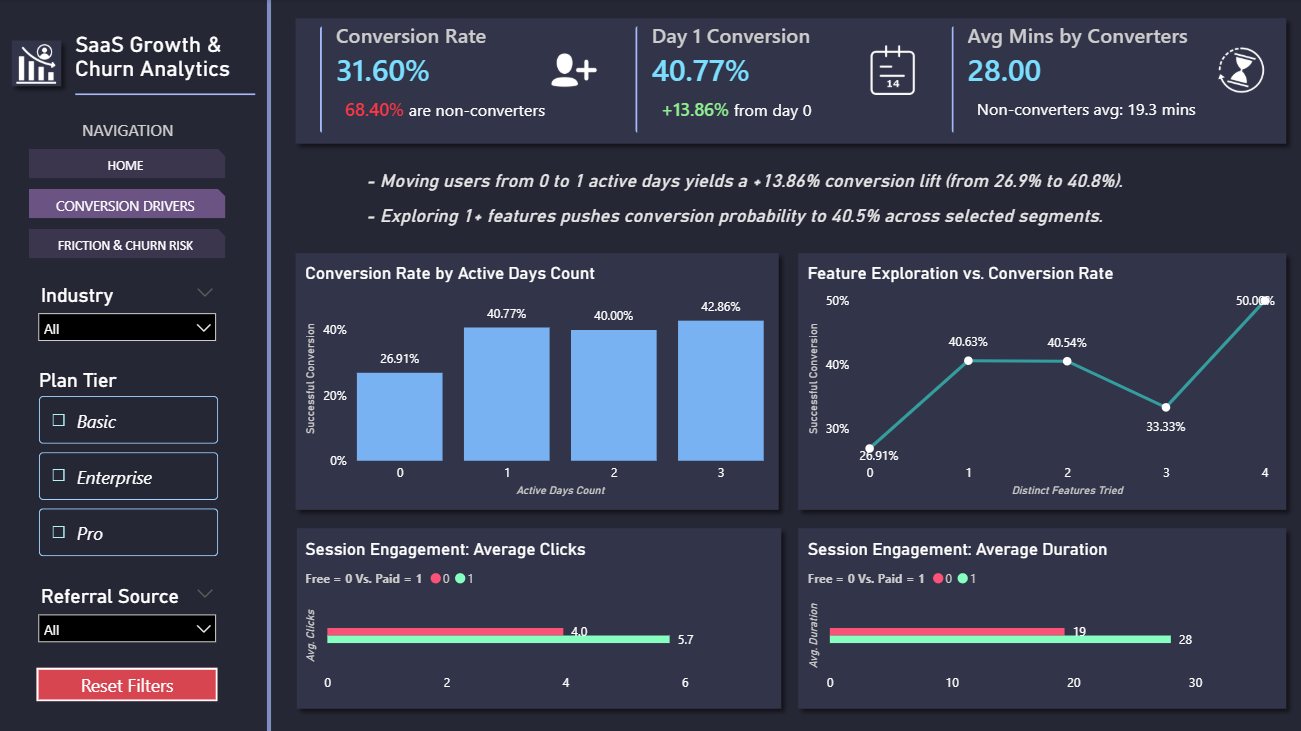

The page's visual inventory and layout, read from the dashboard file:
{"tool":"powerbi","page":{"name":"CONVERSION DRIVERS","canvas":[1280,720],"ordinal":1},"visuals":[{"type":"shape","box":[282.4,9.8,990.2,141.1],"z":0},{"type":"shape","box":[3.7,32.1,66.3,62.6],"z":0,"group":"g1"},{"type":"cardVisual","fields":{"Data":["Measures (2).conversion_rate_%","Measures (2).day_1_activated_conversion_rate_%","Measures (2).avg_active_mins_converters"]},"box":[295.9,7.4,962,143.6],"z":1000},{"type":"image","box":[8.6,43.1,56.4,41.7],"z":1000,"group":"g1"},{"type":"shape","box":[282.4,240.5,492,269.9],"z":2000},{"type":"clusteredColumnChart","title":"Conversion Rate by Active Days Count","fields":{"Category":["saas_conversion master_analytics.active_days_count"],"Y":["Measures (2).conversion_rate_%_no_filter"]},"box":[295.7,258.9,460.1,234.4],"z":3000},{"type":"shape","box":[775.7,240.5,496.9,269.9],"z":4000},{"type":"lineChart","title":"Feature Exploration vs. Conversion Rate","fields":{"Category":["saas_conversion master_analytics.distinct_features_tried"],"Y":["Measures (2).conversion_rate_%_no_filter"]},"box":[789,258.9,468.7,234.4],"z":5000},{"type":"shape","box":[283.4,510.4,493.3,195.1],"z":6000},{"type":"clusteredBarChart","title":"Session Engagement: Average Clicks","fields":{"Y":["Measures (2).avg_clicks"],"Series":["saas_conversion master_analytics.converted_to_paid"]},"box":[295.9,530.1,465,159.5],"z":7000},{"type":"shape","box":[775.5,510.4,496.9,195.1],"z":8000},{"type":"clusteredBarChart","title":"Session Engagement: Average Duration","fields":{"Series":["saas_conversion master_analytics.converted_to_paid"],"Y":["Measures (2).avg_duration"]},"box":[789.2,530.1,468.7,159.5],"z":9000},{"type":"shape","box":[257.7,0,14.7,720],"z":10000},{"type":"advancedSlicerVisual","title":"Plan Tier","fields":{"Values":["saas_conversion master_analytics.plan_tier"]},"box":[34.4,363.2,186.5,190.2],"z":11000},{"type":"slicer","title":"Industry","fields":{"Values":["saas_conversion master_analytics.industry"]},"box":[28.2,274.8,195.1,69.9],"z":12000},{"type":"slicer","title":"Industry","fields":{"Values":["saas_conversion master_analytics.referral_source"]},"box":[28.2,570.6,195.1,66.3],"z":13000},{"type":"actionButton","title":"SaaS Growth & Churn Analytics","box":[74.8,31.9,176.7,62.6],"z":14000},{"type":"actionButton","box":[52.8,108,147.2,40.5],"z":15000},{"type":"actionButton","box":[36.8,656.4,177.9,33.1],"z":16000},{"type":"pageNavigator","box":[29.4,147.2,193.9,108],"z":17000},{"type":"group","id":"g1","title":"Group 1","box":[3.7,32.1,66.3,62.6],"z":18000},{"type":"card","fields":{"Values":["Measures (2).dynamic_insight_activation"]},"box":[295.7,162,871.2,34.4],"z":19000},{"type":"card","fields":{"Values":["Measures (2).dynamic_insight_features"]},"box":[285.9,196.3,871.2,34.4],"z":20000},{"type":"image","box":[526.4,45.4,76.1,49.1],"z":21000},{"type":"image","box":[839.3,45.4,76.1,49.1],"z":22000},{"type":"image","box":[1181.6,45.4,76.1,49.1],"z":23000}]}

Visuals, with their boxes in screenshot pixels (x1, y1, x2, y2), scaled from the page's 1280x720 canvas onto the 1301x731 screenshot:
shape: 287/10/1293/153
shape: 4/33/71/96
cardVisual - Measures (2).conversion_rate_% x Measures (2).day_1_activated_conversion_rate_%: 301/8/1279/153
image: 9/44/66/86
shape: 287/244/787/518
"Conversion Rate by Active Days Count" clusteredColumnChart: 301/263/768/501
shape: 788/244/1293/518
"Feature Exploration vs. Conversion Rate" lineChart: 802/263/1278/501
shape: 288/518/789/716
"Session Engagement: Average Clicks" clusteredBarChart: 301/538/773/700
shape: 788/518/1293/716
"Session Engagement: Average Duration" clusteredBarChart: 802/538/1279/700
shape: 262/0/277/730
"Plan Tier" advancedSlicerVisual: 35/369/225/562
"Industry" slicer: 29/279/227/350
"Industry" slicer: 29/579/227/647
"SaaS Growth & Churn Analytics" actionButton: 76/32/256/96
actionButton: 54/110/203/151
actionButton: 37/666/218/700
pageNavigator: 30/149/227/259
"Group 1" group: 4/33/71/96
card - Measures (2).dynamic_insight_activation: 301/164/1186/199
card - Measures (2).dynamic_insight_features: 291/199/1176/234
image: 535/46/612/96
image: 853/46/930/96
image: 1201/46/1278/96
